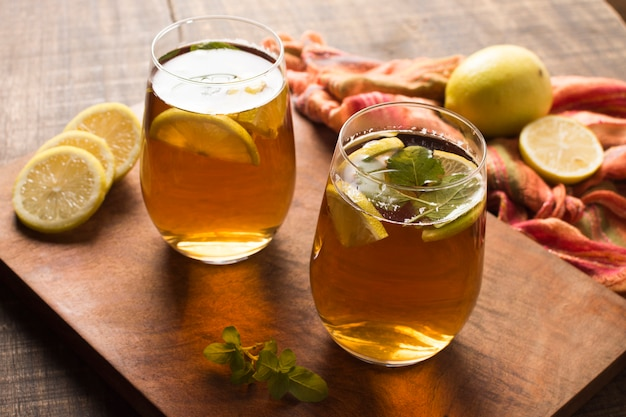alcohol: (311, 87, 489, 369), (140, 13, 298, 267)
